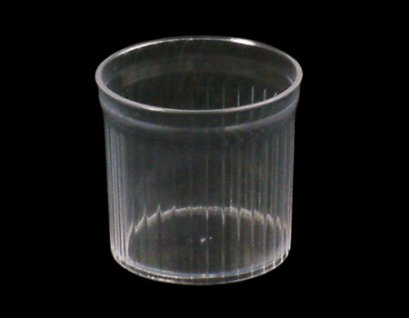plastic_glass: (66, 14, 342, 310)
